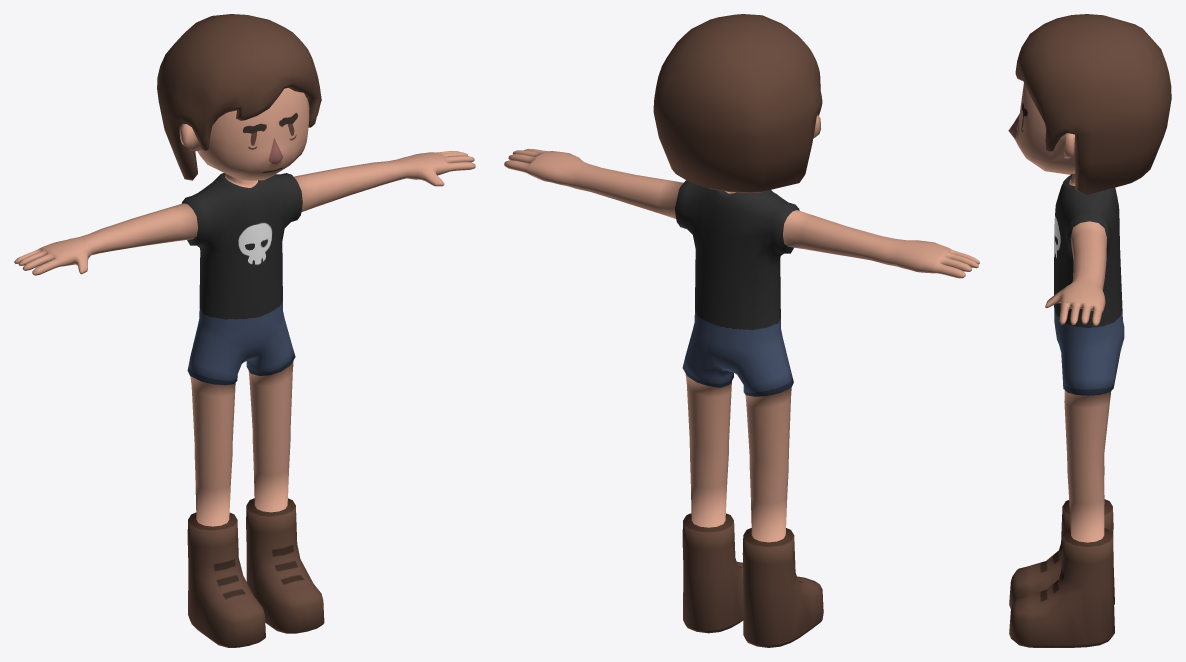
The model's file is PerssonagemBase.fbx.
3 views of the same model, side by side, from view 1: azimuth 30°, elevation 25°; view 2: azimuth 150°, elevation 25°; view 3: azimuth 270°, elevation 25° (orthographic). The views are drawn at different scales.
Visible parts, largest first — view 1: corpo; view 2: corpo; view 3: corpo.
Boxes of the visible parts, <box> form: corpo: <box>14,14,475,647</box>; corpo: <box>504,14,979,647</box>; corpo: <box>1008,14,1171,647</box>.
Size of the model in its own units: 140 by 174 by 43.
Materials: 3 (3 with a texture image).
